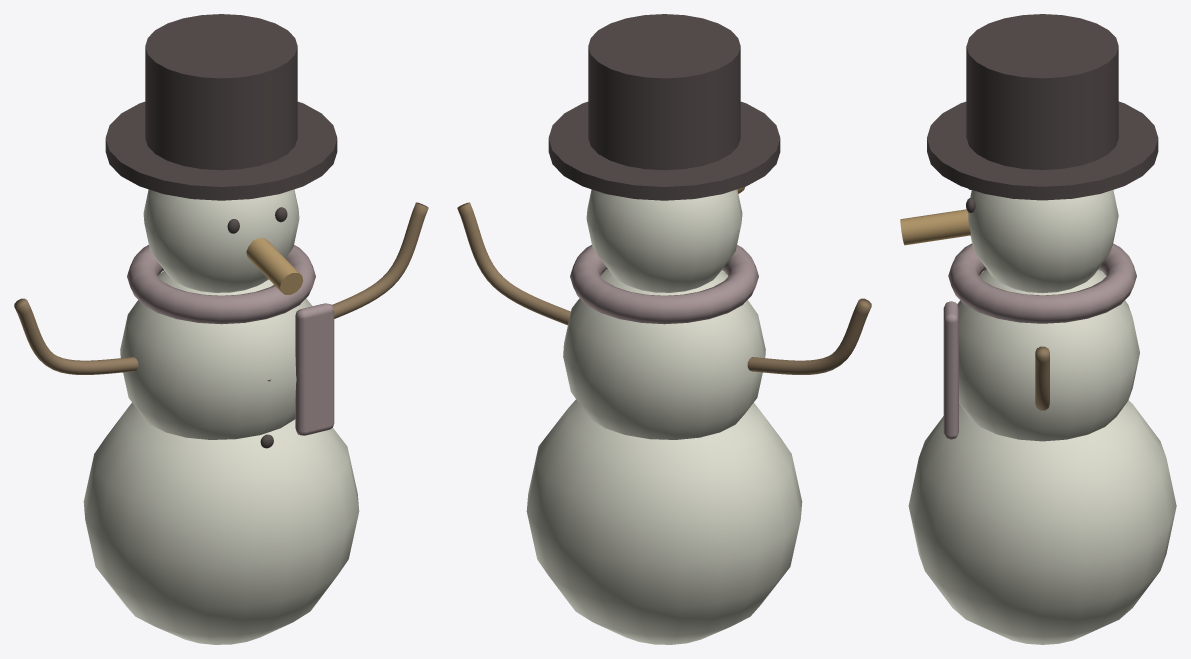
File: snowman.glb
The picture shows the model from 3 angles, left to right: view 1: azimuth 30°, elevation 25°; view 2: azimuth 150°, elevation 25°; view 3: azimuth 270°, elevation 25°; orthographic projection.
Visible parts, largest first — view 1: grounded-snow-body, hat-crown, snowman-chest, snowman-head, hat-brim, scarf-collar, scarf-tail, twig-arm--1, twig-arm-1, carrot-nose; view 2: grounded-snow-body, snowman-chest, hat-crown, snowman-head, hat-brim, scarf-collar, twig-arm-1, twig-arm--1; view 3: grounded-snow-body, hat-crown, snowman-chest, snowman-head, hat-brim, scarf-collar, scarf-tail, carrot-nose, twig-arm-1.
Boxes of the visible parts, bbox=[...] form: grounded-snow-body: bbox=[83, 402, 359, 644]; hat-crown: bbox=[145, 14, 297, 170]; snowman-chest: bbox=[120, 271, 312, 439]; snowman-head: bbox=[143, 189, 299, 292]; hat-brim: bbox=[105, 101, 337, 200]; scarf-collar: bbox=[127, 245, 315, 324]; scarf-tail: bbox=[295, 303, 334, 435]; twig-arm--1: bbox=[14, 298, 138, 374]; twig-arm-1: bbox=[332, 202, 428, 318]; carrot-nose: bbox=[246, 238, 303, 294]; grounded-snow-body: bbox=[526, 399, 802, 644]; snowman-chest: bbox=[563, 268, 765, 439]; hat-crown: bbox=[588, 14, 740, 170]; snowman-head: bbox=[586, 189, 742, 292]; hat-brim: bbox=[548, 101, 780, 200]; scarf-collar: bbox=[570, 245, 758, 324]; twig-arm-1: bbox=[457, 202, 570, 325]; twig-arm--1: bbox=[747, 298, 871, 374]; grounded-snow-body: bbox=[908, 400, 1176, 644]; hat-crown: bbox=[966, 14, 1118, 169]; snowman-chest: bbox=[957, 269, 1139, 441]; snowman-head: bbox=[968, 190, 1118, 293]; hat-brim: bbox=[927, 101, 1158, 200]; scarf-collar: bbox=[948, 243, 1136, 323]; scarf-tail: bbox=[943, 301, 958, 439]; carrot-nose: bbox=[900, 209, 970, 245]; twig-arm-1: bbox=[1035, 346, 1049, 410].
Bounding box in the file's own units: 0.7804 × 1.06 × 0.4536.
